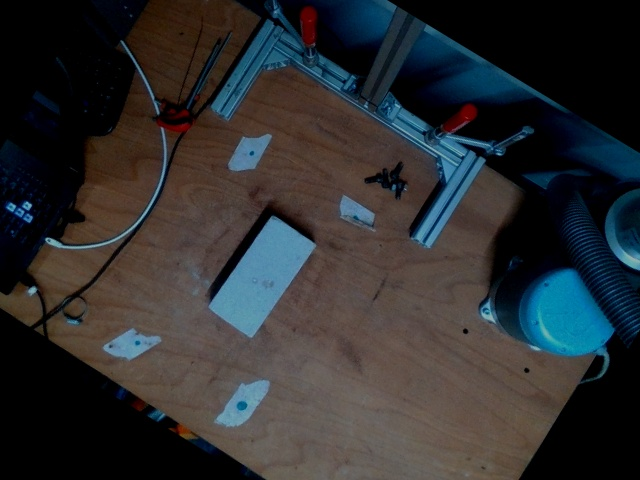brick: (207, 214, 315, 336)
